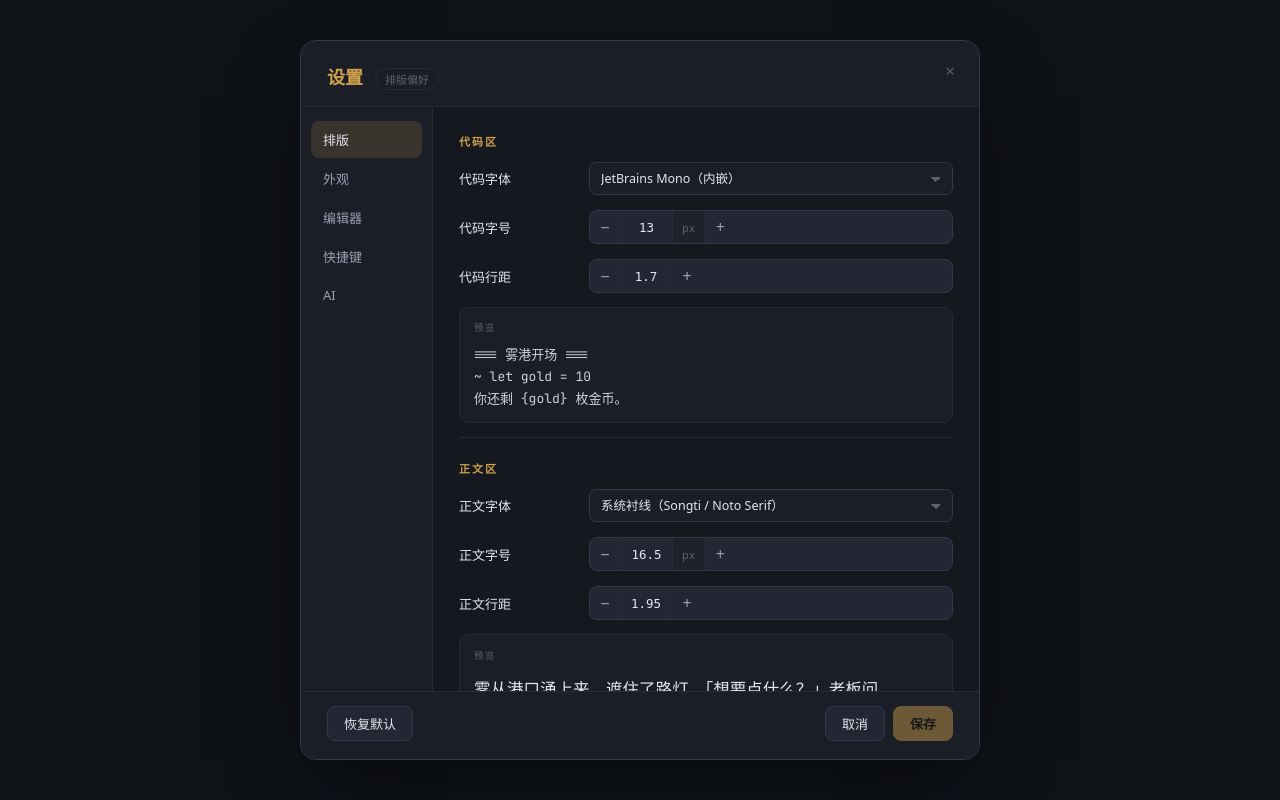
Scenario: SettingsDialog › 改代码字号 → 仅动草稿（保存启用、documentElement 不变）
Click the button named "增大代码字号" at [720, 227], box [705,211,735,243]
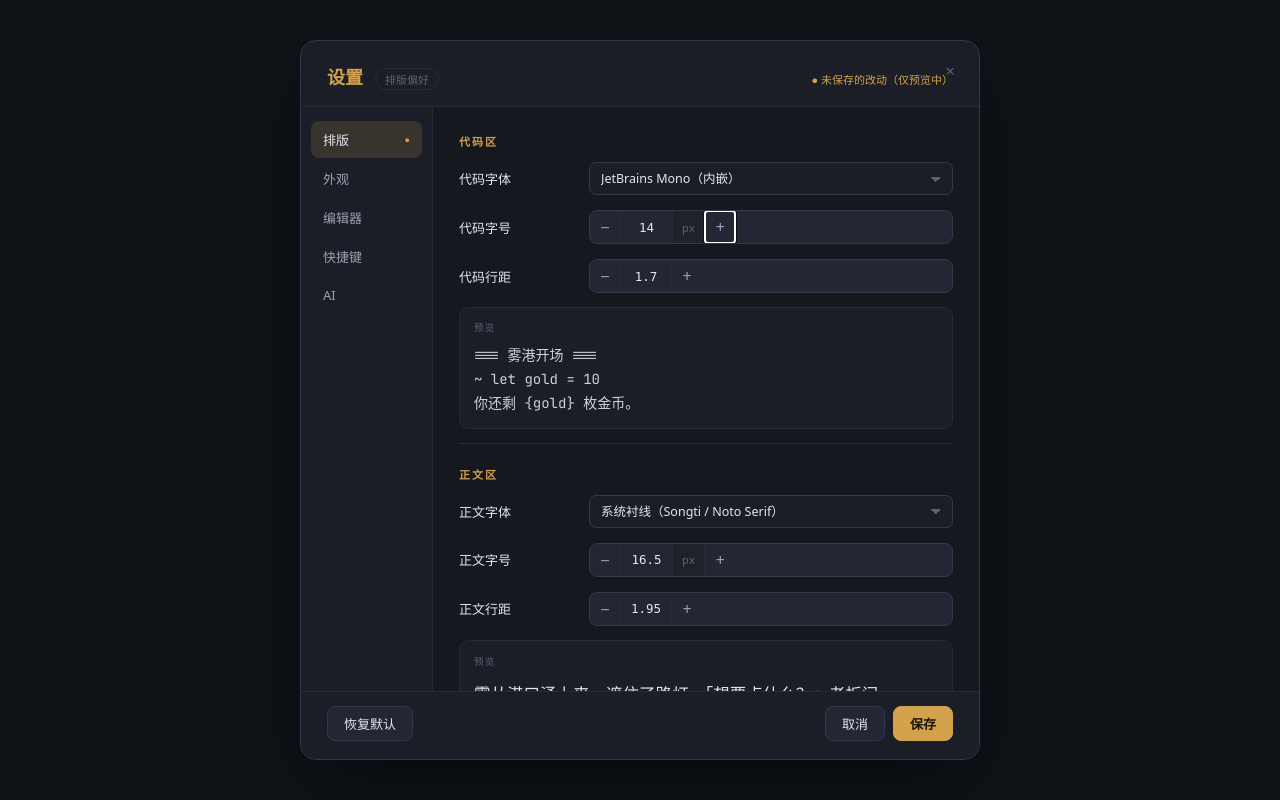
Result: the button "保存" is enabled at [893,706,953,741]
